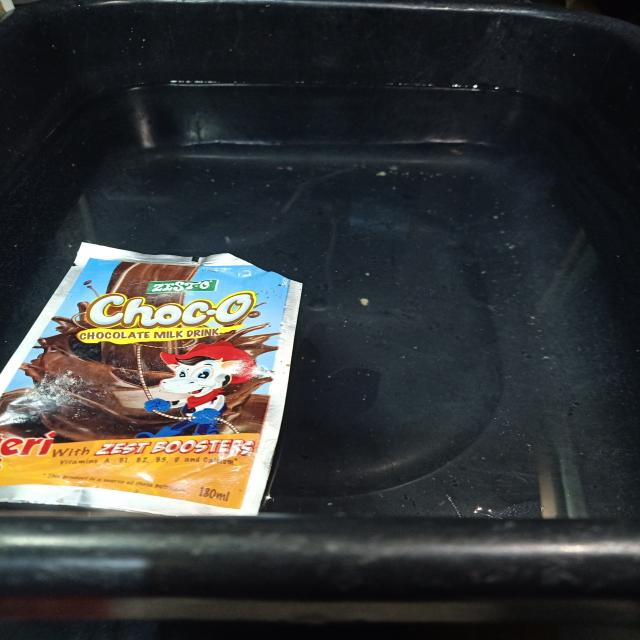Plastic Pouch: (0, 243, 301, 515)
